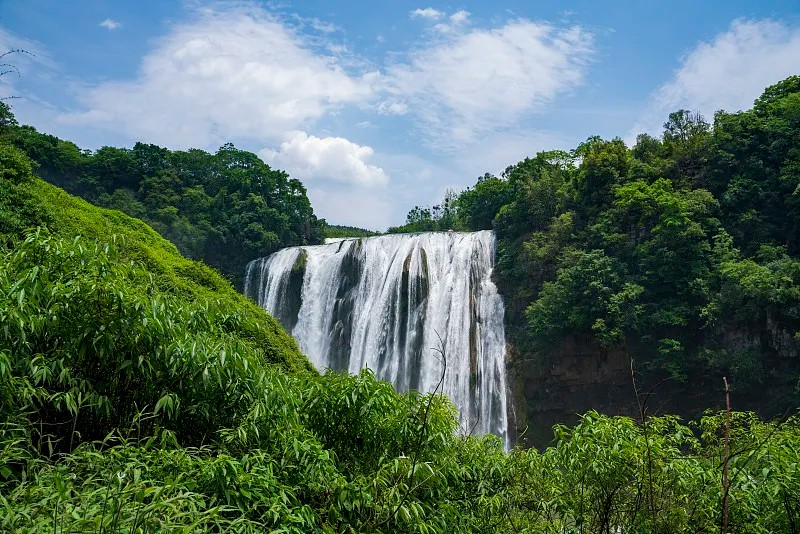Huangguoshu: (248, 230, 510, 451)
